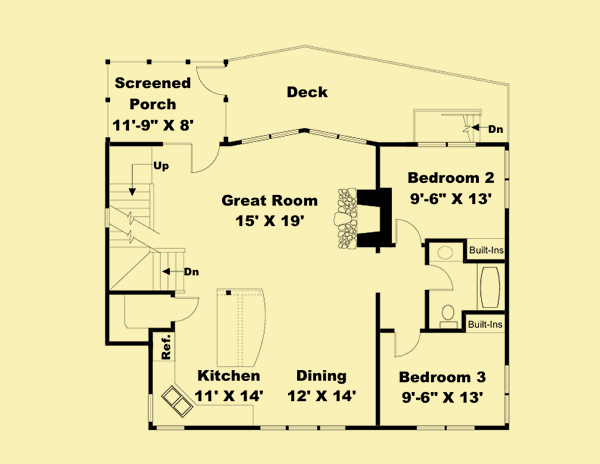door: (185, 138, 228, 175), (419, 260, 457, 295), (196, 64, 232, 99), (391, 214, 424, 250), (389, 326, 425, 359), (170, 293, 202, 325)
large sink: (433, 300, 462, 332)
small sink: (430, 241, 463, 263)
small sofa: (157, 383, 197, 419)
stairs: (110, 153, 204, 294), (411, 109, 505, 146)
tub: (477, 262, 504, 311)
windows: (304, 125, 369, 149), (257, 420, 349, 435), (238, 127, 303, 147), (414, 422, 479, 436), (500, 147, 514, 212), (416, 138, 480, 152), (155, 422, 189, 434), (146, 391, 155, 424)
